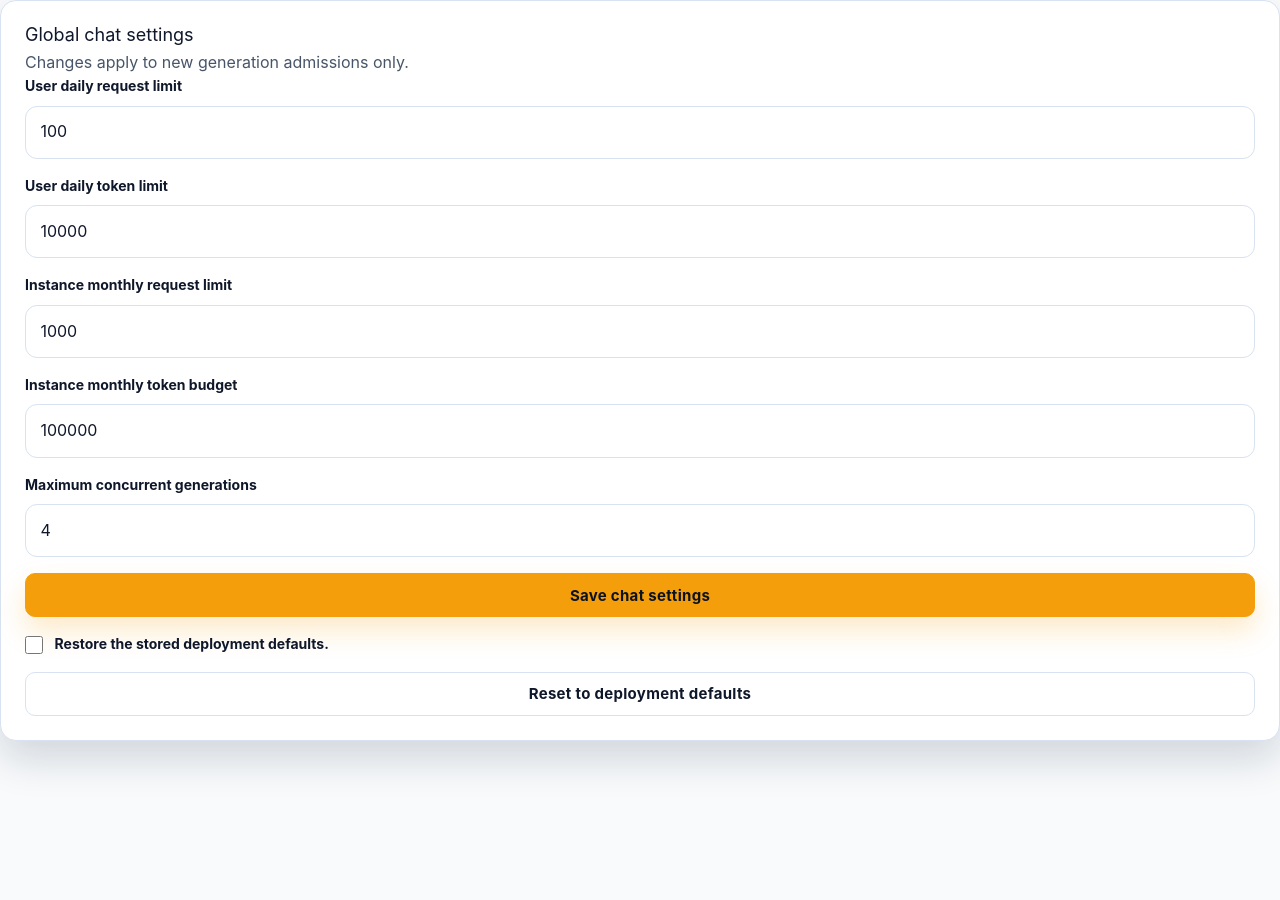
Test case: renders every validation message returned for a field
This screenshot has width=1280, height=900.
Click the button "Save chat settings": (640, 595) [25,573,1255,617]
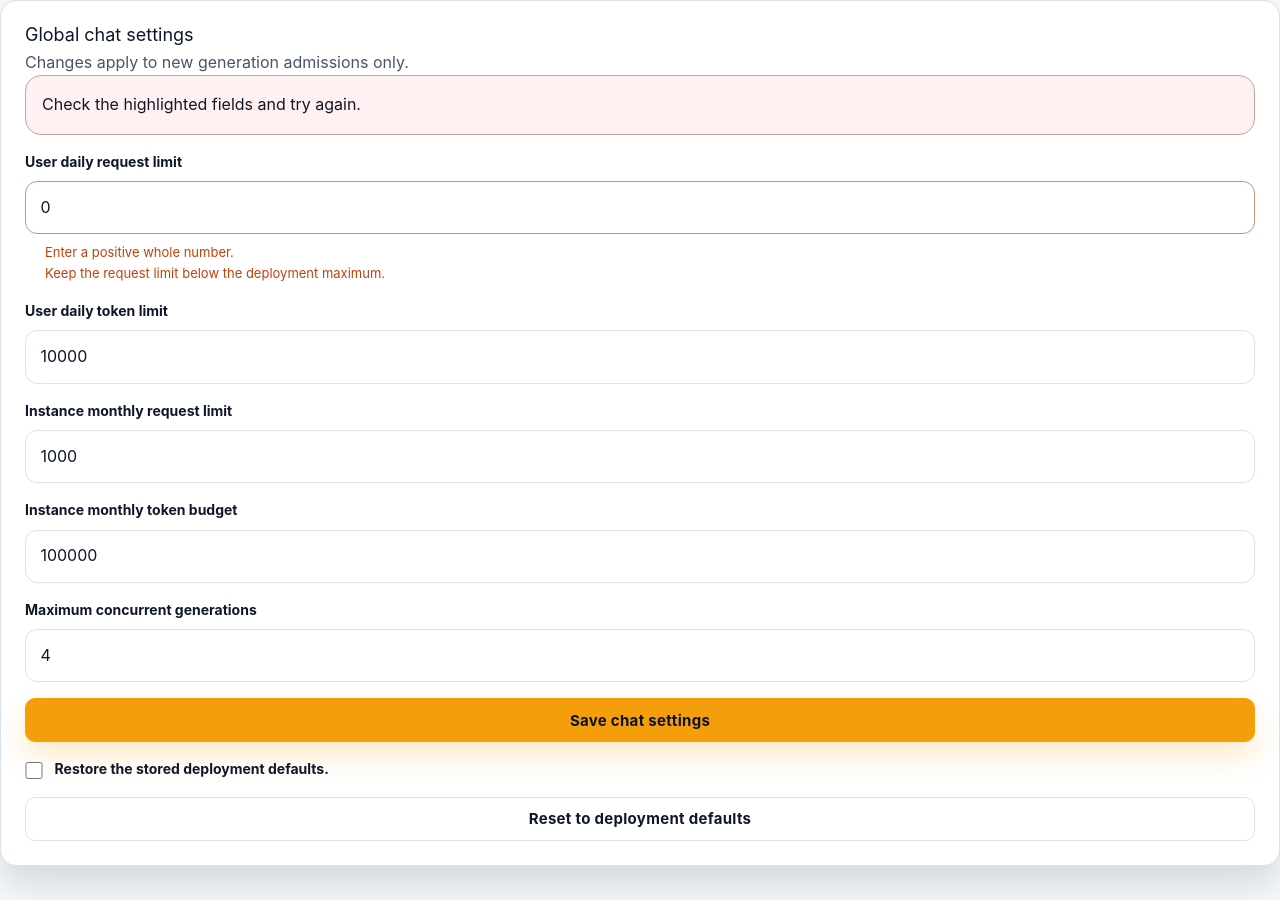
Check: the list item "Enter a positive whole number." is shown, box [45,244,234,260]
Check: the list item "Keep the request limit below the deployment maximum." is shown, box [45,265,385,281]
